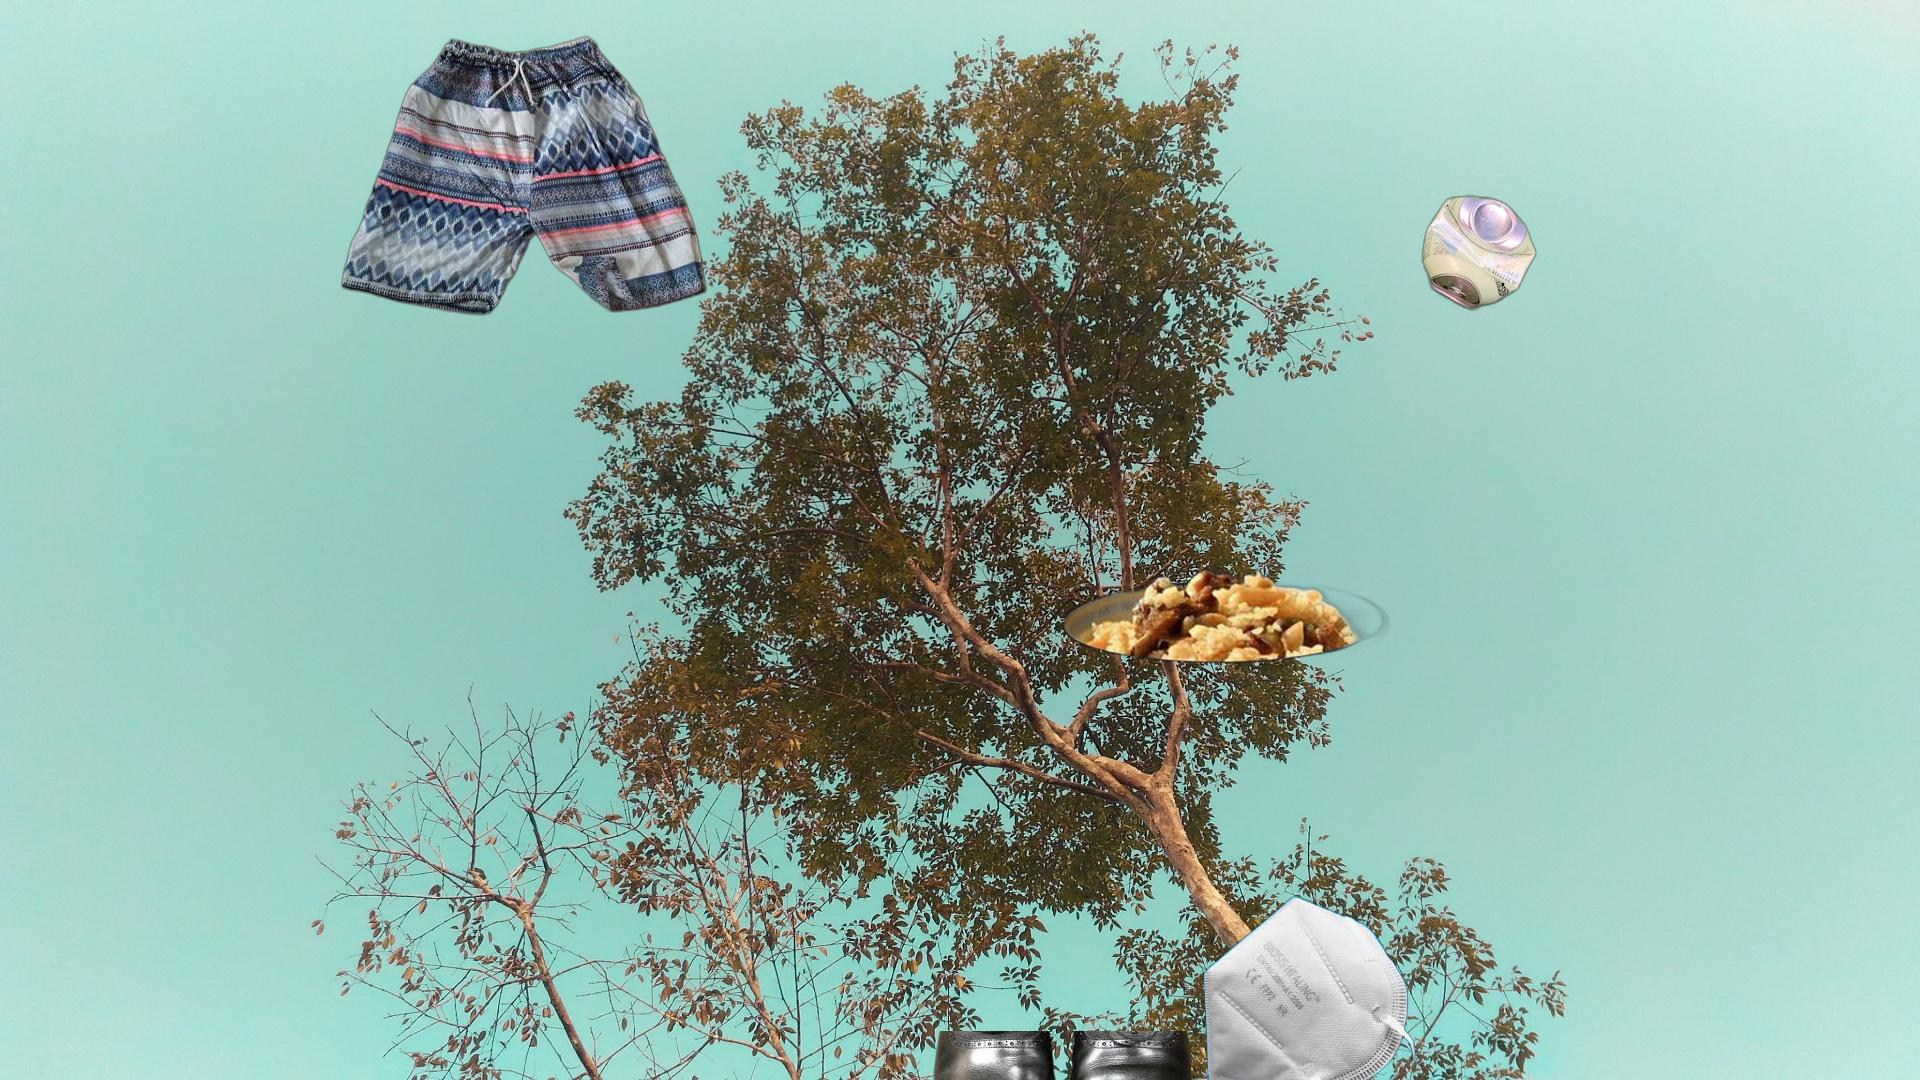biological: (1055, 564, 1393, 666), (673, 1067, 1920, 1080)
clothes: (338, 32, 709, 319)
metal-cans: (1418, 190, 1542, 315)
shoes: (932, 1031, 1191, 1080)
trash: (1200, 894, 1418, 1080)
